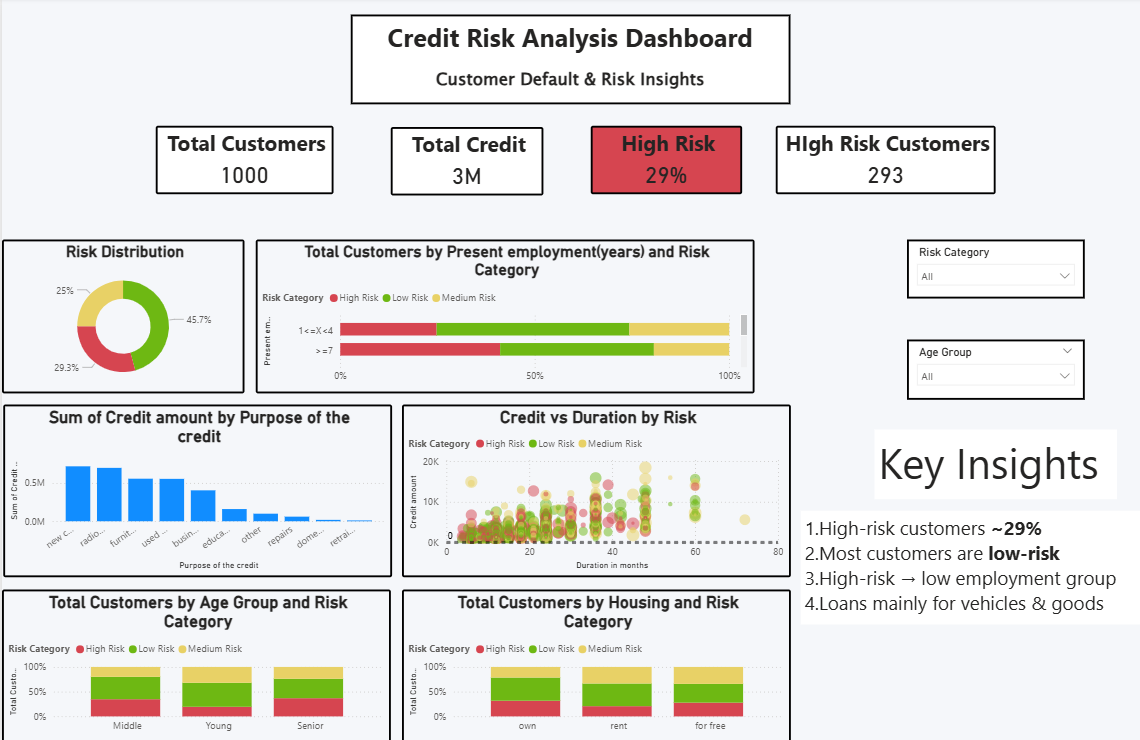

The page's visual inventory and layout, read from the dashboard file:
{"tool":"powerbi","page":{"name":"Page 1","canvas":[1450,950],"ordinal":0},"visuals":[{"type":"donutChart","title":"Risk Distribution","fields":{"Category":["Credit risk dataset.Risk Category"],"Y":["Credit risk dataset.Total Customers"]},"box":[0,308.8,308.8,195.8],"z":0},{"type":"columnChart","fields":{"Category":["Credit risk dataset.Purpose of the credit"],"Y":["Sum(Credit risk dataset.Credit amount)"]},"box":[1.6,518.9,495.1,219.7],"z":1000},{"type":"hundredPercentStackedColumnChart","fields":{"Category":["Credit risk dataset.Age Group"],"Y":["Credit risk dataset.Total Customers"],"Series":["Credit risk dataset.Risk Category"]},"box":[0,754.5,495.1,195.8],"z":2000},{"type":"hundredPercentStackedBarChart","fields":{"Category":["Credit risk dataset.Present employment(years)"],"Y":["Credit risk dataset.Total Customers"],"Series":["Credit risk dataset.Risk Category"]},"box":[323.1,308.8,635.1,195.8],"z":3000},{"type":"scatterChart","title":"Credit vs Duration by Risk","fields":{"Series":["Credit risk dataset.Risk Category"],"X":["Credit risk dataset.Duration in months"],"Y":["Credit risk dataset.Credit amount"],"Size":["Sum(Credit risk dataset.id)"]},"box":[509.4,518.9,495.1,219.7],"z":4000},{"type":"hundredPercentStackedColumnChart","fields":{"Category":["Credit risk dataset.Housing"],"Y":["Credit risk dataset.Total Customers"],"Series":["Credit risk dataset.Risk Category"]},"box":[509.4,754.5,495.1,195.8],"z":5000},{"type":"card","title":"Total Customers","fields":{"Values":["Credit risk dataset.Total Customers"]},"box":[195.8,164,226,87.6],"z":6000},{"type":"card","title":"High Risk","fields":{"Values":["Credit risk dataset.High Risk %"]},"box":[749.8,164,192.6,87.6],"z":7000},{"type":"card","title":"Total Credit","fields":{"Values":["Credit risk dataset.Total Credit"]},"box":[495.1,165.6,194.2,87.6],"z":8000},{"type":"card","title":"HIgh Risk Customers","fields":{"Values":["Credit risk dataset.High Risk Customers"]},"box":[985.3,164,280.2,87.6],"z":9000},{"type":"textbox","box":[444.1,22.3,560.3,114.6],"z":10000},{"type":"slicer","fields":{"Values":["Credit risk dataset.Risk Category"]},"box":[1152.5,308.8,226,74.8],"z":10001},{"type":"slicer","fields":{"Values":["Credit risk dataset.Age Group"]},"box":[1152.5,436.2,226,76.4],"z":10002},{"type":"textbox","box":[1017.2,654.2,433,144.9],"z":10003},{"type":"textbox","box":[1111.1,550.8,308.8,89.1],"z":10004}]}

Visuals, with their boxes in screenshot pixels (x1, y1, x2, y2), scaled from the page's 1450x950 canvas onto the 1140x740 screenshot:
"Risk Distribution" donutChart: 0:241:243:393
columnChart - Credit risk dataset.Purpose of the credit x Sum(Credit risk dataset.Credit amount): 1:404:391:575
hundredPercentStackedColumnChart - Credit risk dataset.Age Group x Credit risk dataset.Total Customers: 0:588:389:739
hundredPercentStackedBarChart - Credit risk dataset.Present employment(years) x Credit risk dataset.Total Customers: 254:241:753:393
"Credit vs Duration by Risk" scatterChart: 400:404:790:575
hundredPercentStackedColumnChart - Credit risk dataset.Housing x Credit risk dataset.Total Customers: 400:588:790:739
"Total Customers" card: 154:128:332:196
"High Risk" card: 589:128:741:196
"Total Credit" card: 389:129:542:197
"HIgh Risk Customers" card: 775:128:995:196
textbox: 349:17:790:107
slicer - Credit risk dataset.Risk Category: 906:241:1084:299
slicer - Credit risk dataset.Age Group: 906:340:1084:399
textbox: 800:510:1139:622
textbox: 874:429:1116:498
